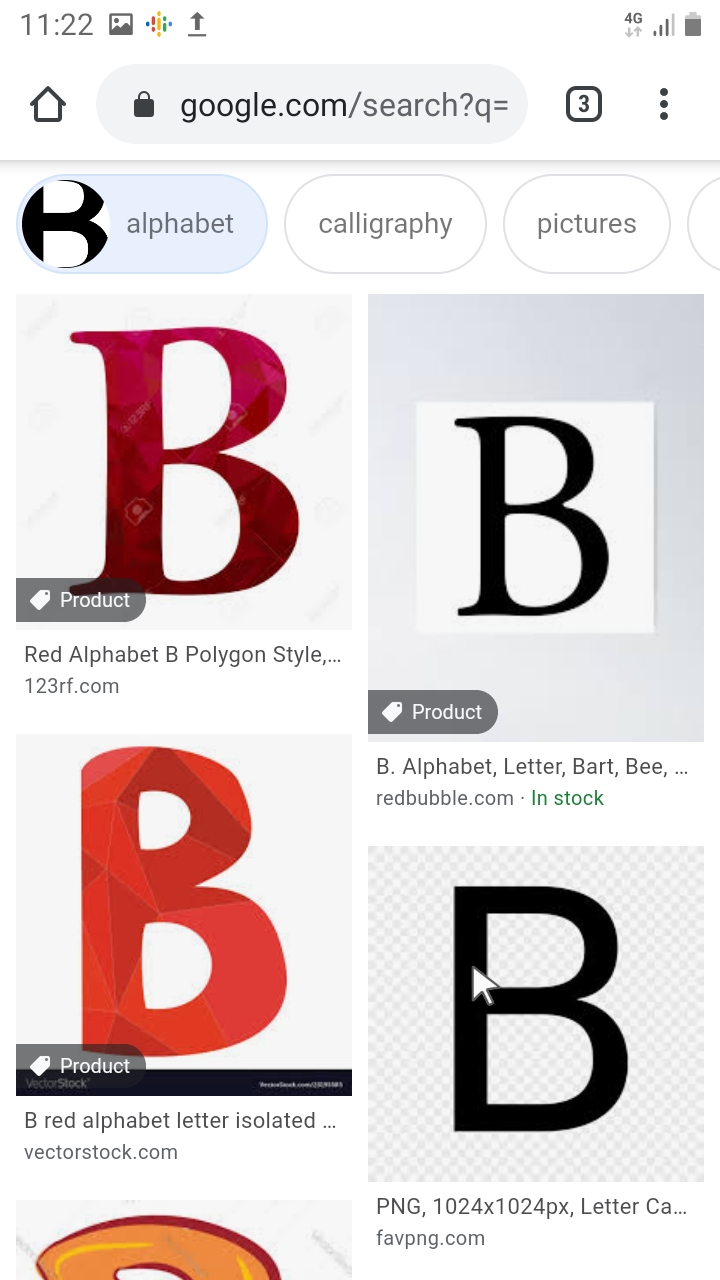zone B: (55, 319, 310, 600), (68, 741, 296, 1055), (417, 380, 664, 653), (443, 876, 639, 1163)
